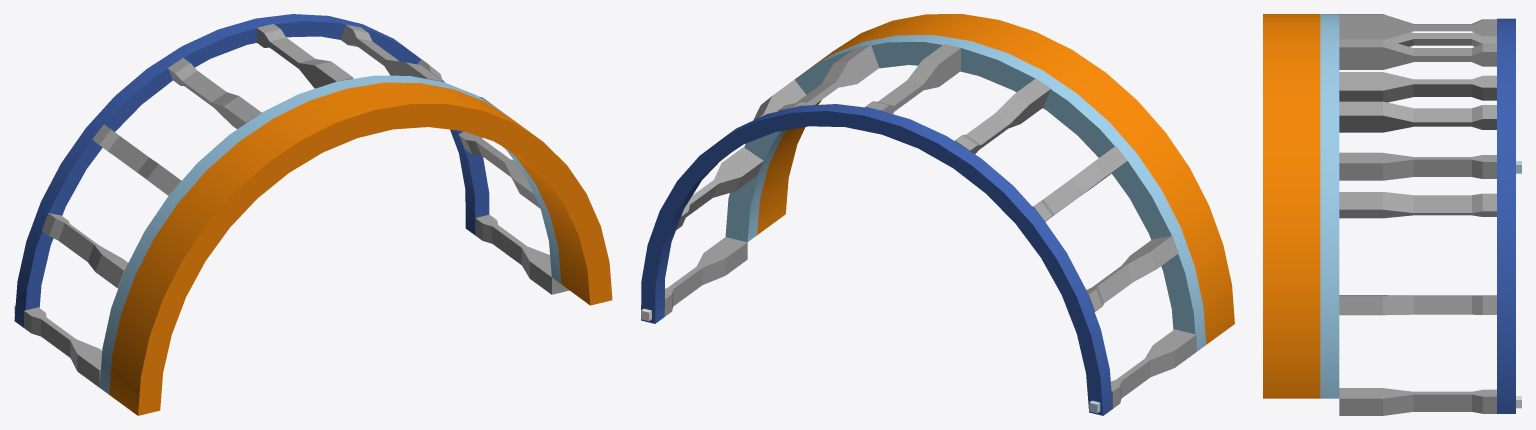
Rendered from Rail.dae.
3 views of the same model, side by side, from view 1: azimuth 30°, elevation 25°; view 2: azimuth 150°, elevation 25°; view 3: azimuth 270°, elevation 25° (orthographic).
Visible parts, largest first — view 1: 683cd80aacba11596aea70a1 (×11); view 2: 683cd80aacba11596aea70a1 (×12); view 3: 683cd80aacba11596aea70a1 (×12).
Part boxes in pixels (x1,y1,x2,y2): 683cd80aacba11596aea70a1 (×11): (14, 14, 612, 415); 683cd80aacba11596aea70a1 (×12): (641, 14, 1234, 415); 683cd80aacba11596aea70a1 (×12): (1263, 14, 1515, 415).
Size of the model in its own units: 0.0722 by 0.0345 by 0.0387.
